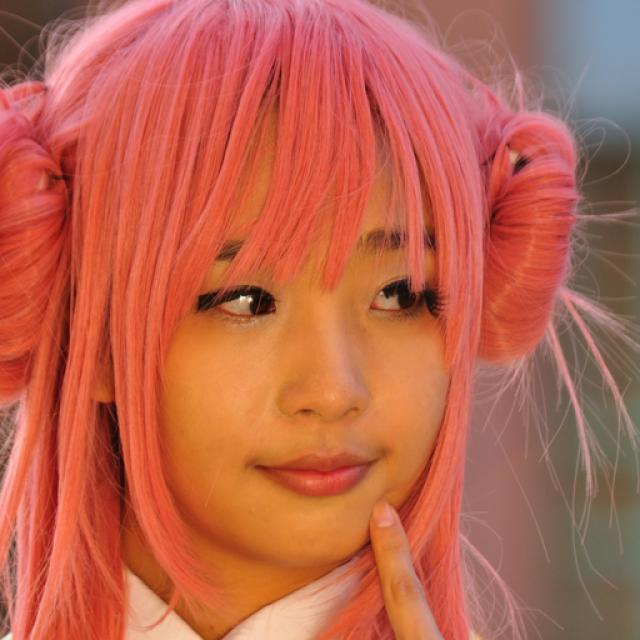happy: (155, 119, 464, 565)
